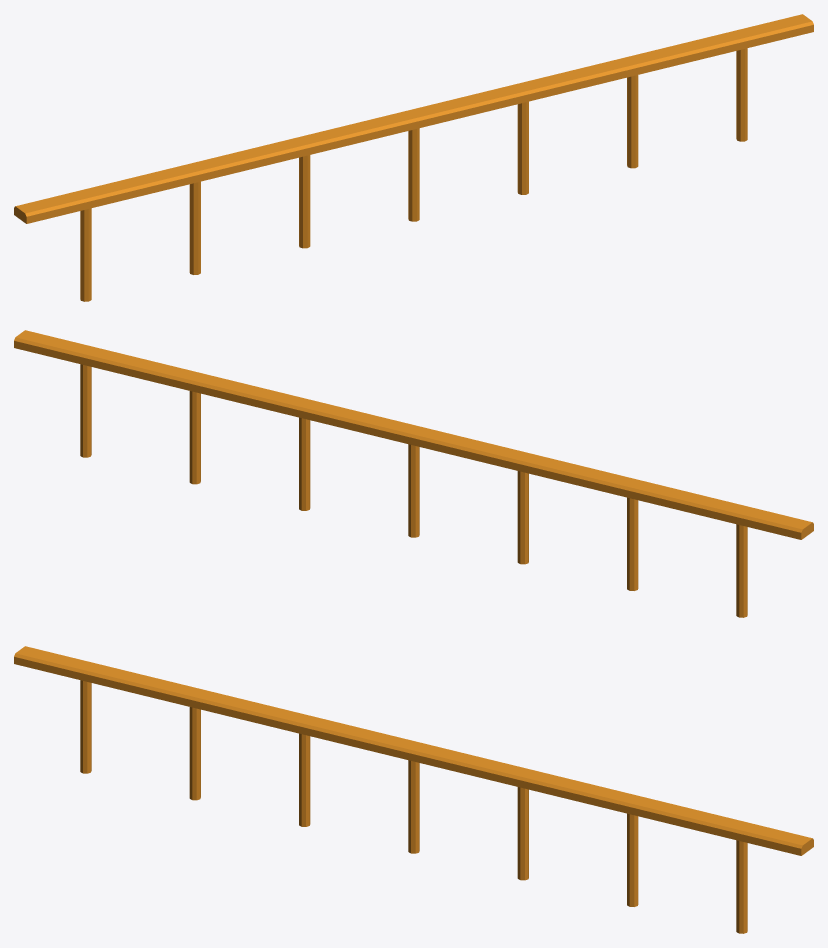
File: parallel_bridge.glb
3 views of the same model, one above another, from view 1: azimuth 30°, elevation 25°; view 2: azimuth 150°, elevation 25°; view 3: azimuth 330°, elevation 25° (orthographic).
Parts seen in each view (by area): view 1: bridge-col; view 2: bridge-col; view 3: bridge-col.
Part boxes in pixels (bbox=[...]): bridge-col: bbox=[14, 14, 813, 301]; bridge-col: bbox=[14, 330, 813, 617]; bridge-col: bbox=[14, 646, 813, 933].
Size of the model in its own units: 72 by 9.23 by 1.98.
